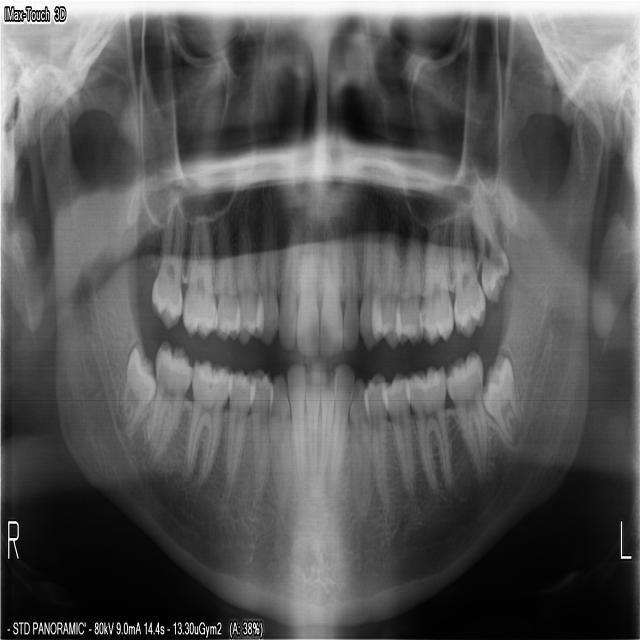LCD: (350, 374, 370, 519)
LCU: (360, 225, 378, 348)
LID: (325, 365, 358, 489), (318, 358, 335, 478)
LIU: (318, 225, 342, 358), (343, 229, 359, 352)
LMD: (405, 363, 452, 494), (446, 349, 490, 474), (479, 345, 522, 444)
LMU: (451, 208, 489, 340), (420, 217, 454, 349), (473, 198, 513, 307)
LPMD: (383, 367, 414, 492), (363, 374, 388, 507)
LPMU: (397, 233, 424, 355), (372, 232, 398, 350)
RCD: (269, 368, 293, 500)
RCU: (257, 200, 280, 345)
RID: (284, 360, 308, 479), (299, 359, 320, 477)
RIU: (278, 219, 301, 358), (296, 223, 319, 360)
RMD: (139, 344, 194, 467), (183, 362, 231, 480), (115, 339, 157, 443)
RMU: (181, 202, 219, 345), (148, 200, 186, 332)
RPMD: (224, 370, 255, 499), (250, 363, 271, 507)
RPMU: (235, 219, 263, 354), (213, 213, 242, 342)
